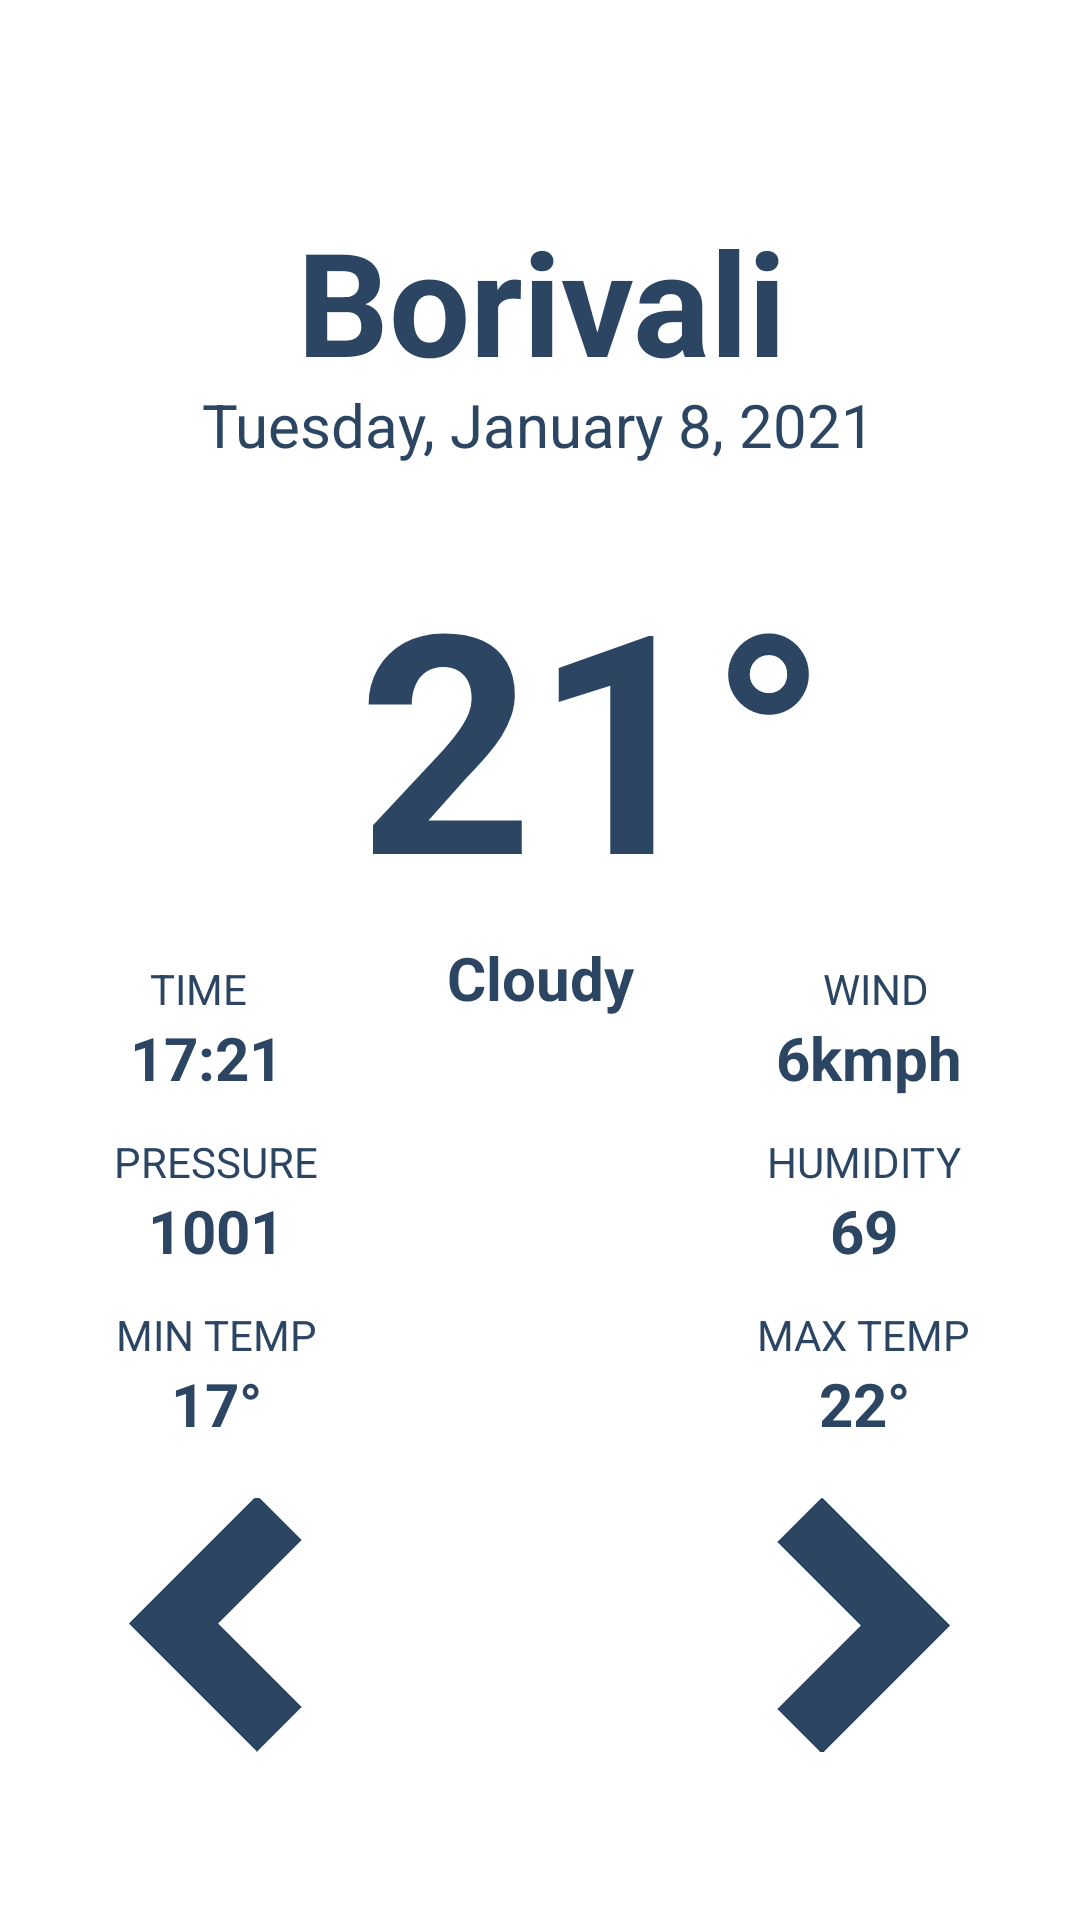

Icons on this 1080 x 1920 Android screen, each with its box as (x1=x1, y1=y1, x2=x2, y2=y2):
leftarrowb: (x1=129, y1=1498, x2=302, y2=1752)
rightarrowb: (x1=777, y1=1498, x2=950, y2=1752)
